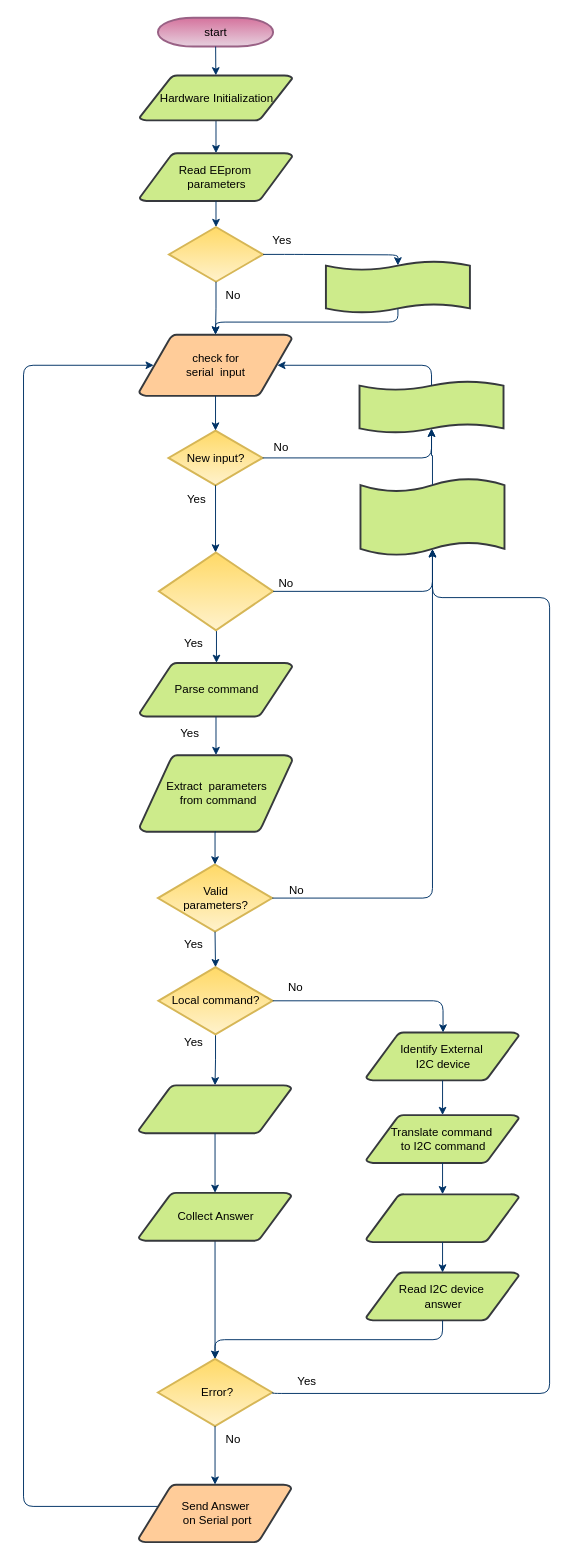
Some shapes in this 574 by 1559 pixel diagram are drawn without their labels. Here are the shapes that lost their labels. From the top down, the centre of each, then its label:
At [216,254]: "Data corrupt?".
At [397,286]: "Take default parameters Send Beep Code".
At [431,406]: "Heartbeat Led Flash".
At [432,516]: "Turn ON Fail Red Led Send Error Beep Register error on FIFO".
At [215,591]: "Valid SCPI Command?".
At [214,1109]: "Execute Command".
At [442,1218]: "Send Command to I2C Device".
